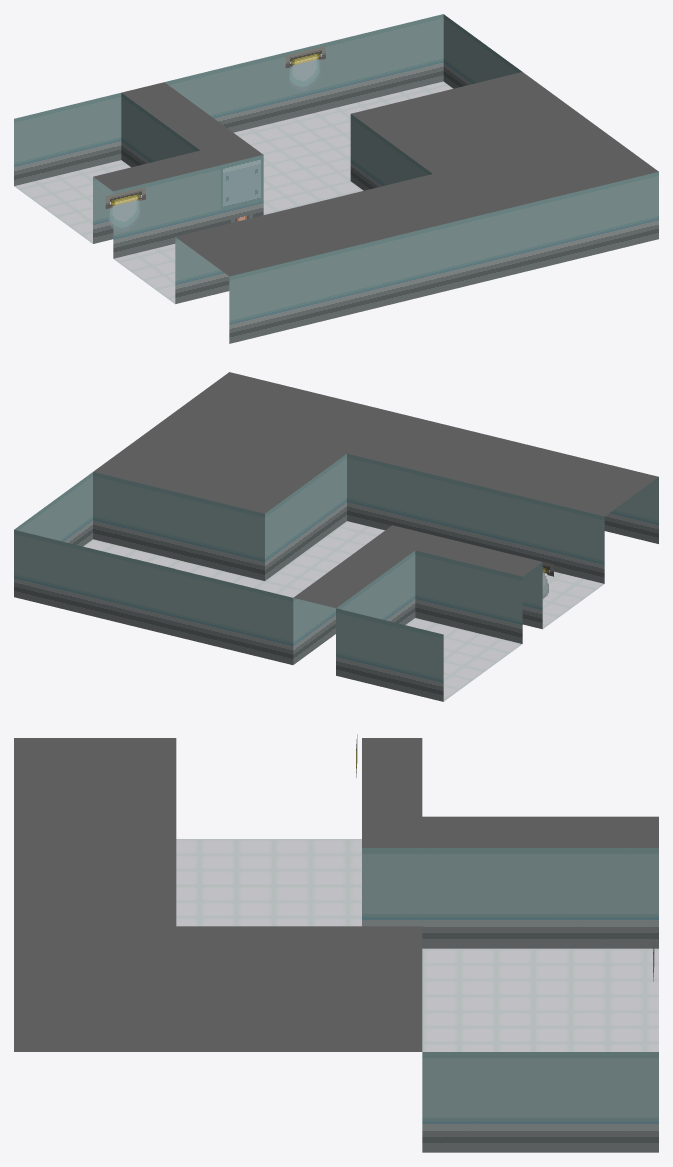
File: GAL10-1.obj
3 views of the same model, one above another, from view 1: azimuth 30°, elevation 25°; view 2: azimuth 150°, elevation 25°; view 3: azimuth 270°, elevation 25° (orthographic). The views are drawn at different scales.
Visible parts, largest first — view 1: m_dun2605_02_00c; view 2: m_dun2605_02_00c; view 3: m_dun2605_02_00c.
Part boxes in pixels (bbox=[...]): m_dun2605_02_00c: bbox=[14, 14, 658, 343]; m_dun2605_02_00c: bbox=[14, 372, 658, 701]; m_dun2605_02_00c: bbox=[14, 734, 658, 1152].
Bounding box in the file's own units: 328 × 48 × 278.
